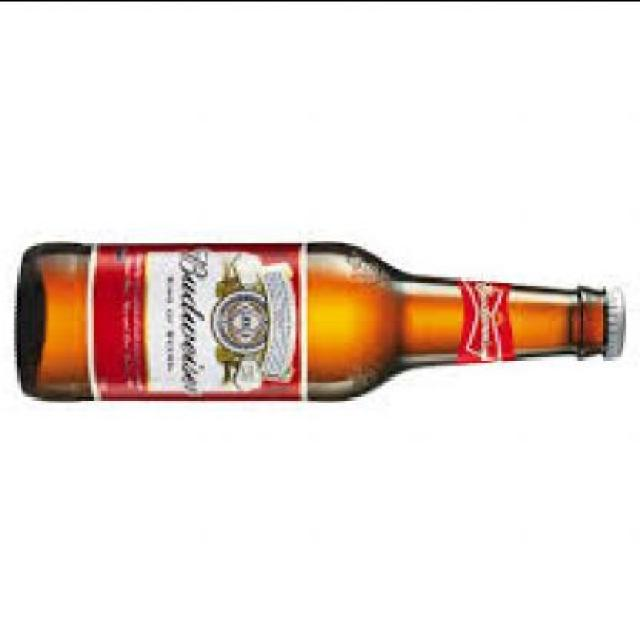GLASS: (21, 238, 608, 402)
METAL: (612, 278, 626, 352)
